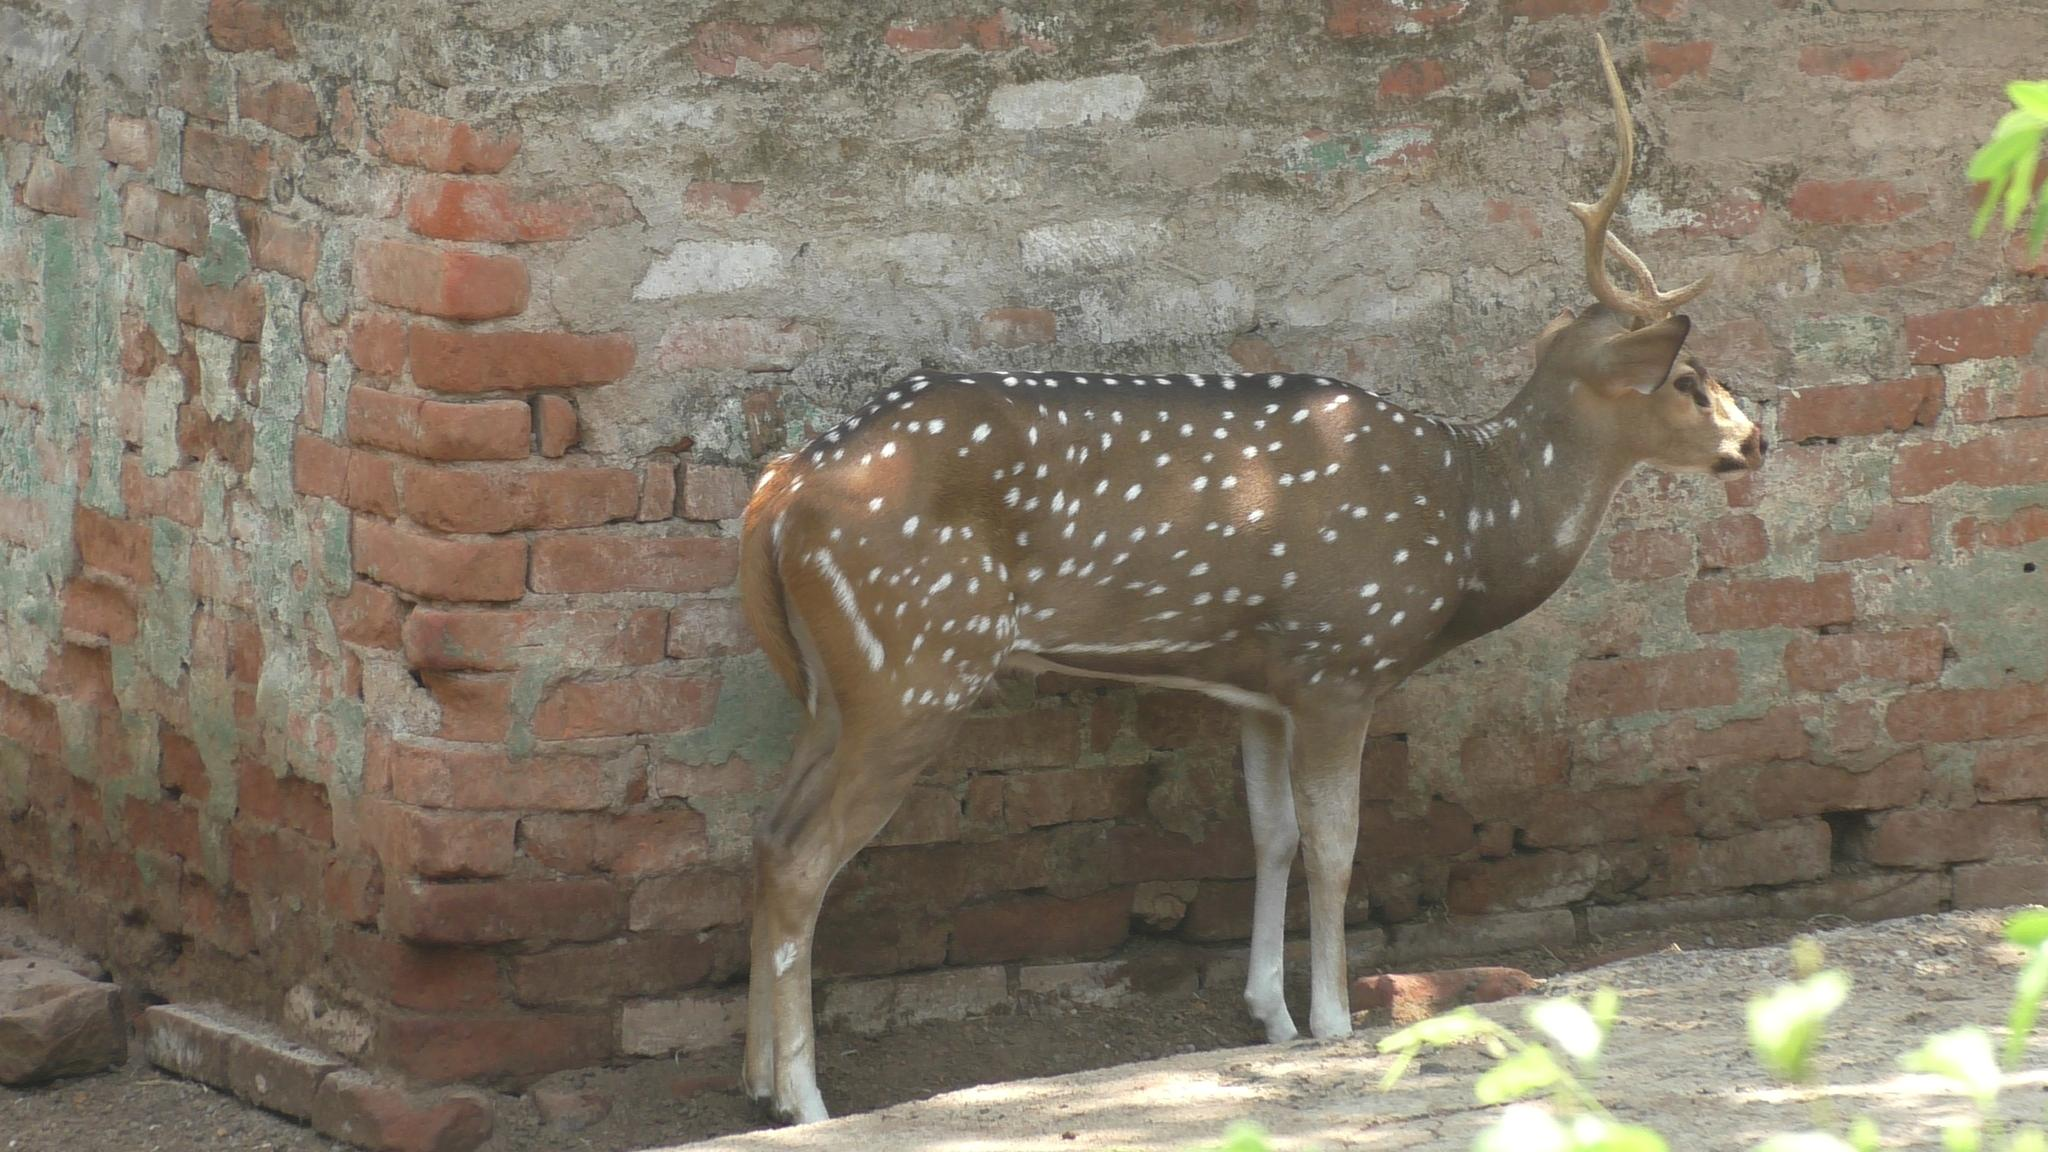Deer: (738, 42, 1765, 1120)
